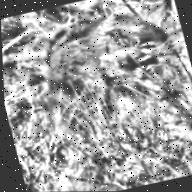boar: (19, 0, 192, 151)
